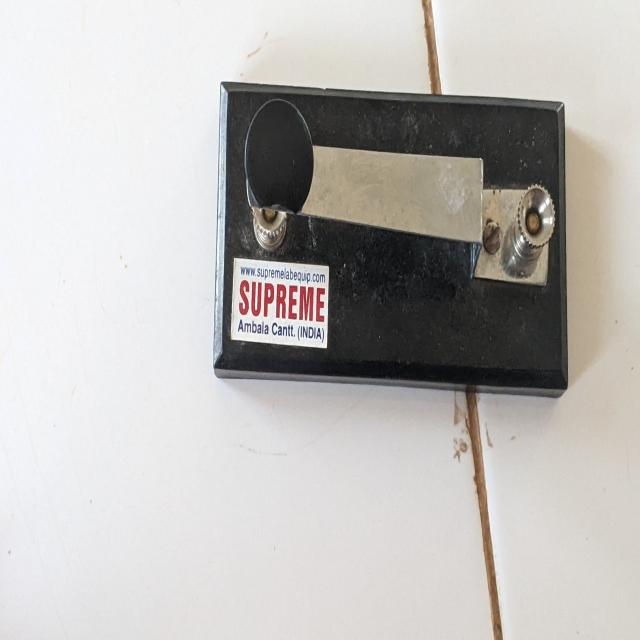Press Key: (210, 72, 583, 418)
